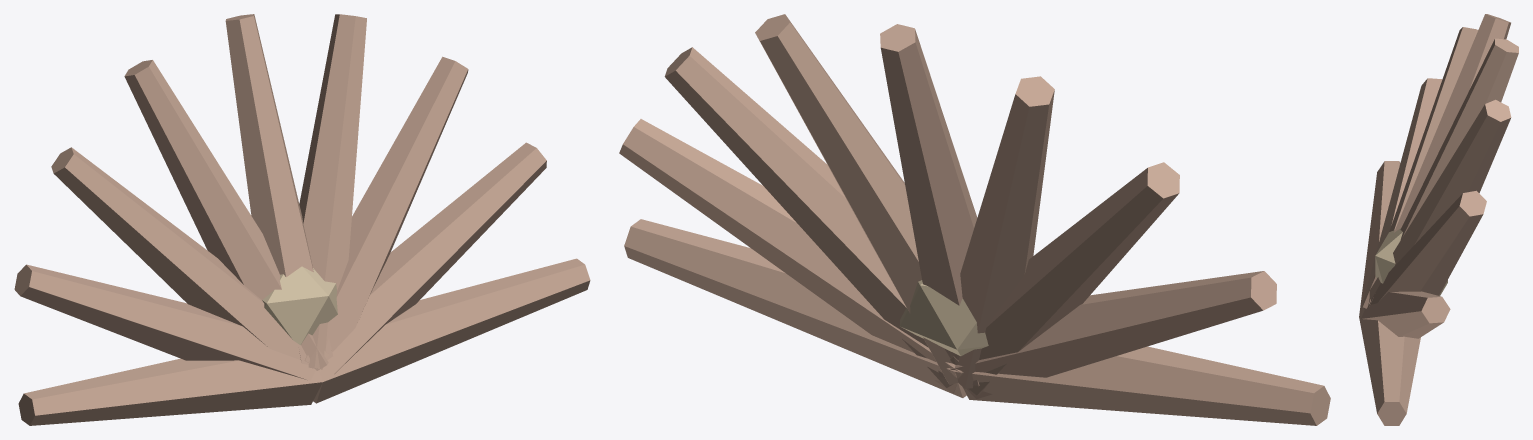
File: map-exclusive-v3__shore_07.glb
3 views of the same model, side by side, from view 1: azimuth 30°, elevation 25°; view 2: azimuth 150°, elevation 25°; view 3: azimuth 270°, elevation 25° (orthographic). The views are drawn at different scales.
Visible parts, largest first — view 1: shore_07; view 2: shore_07; view 3: shore_07.
Boxes of the visible parts, x1=… form: shore_07: x1=14, y1=14, x2=590, y2=425; shore_07: x1=619, y1=14, x2=1330, y2=425; shore_07: x1=1359, y1=14, x2=1518, y2=425.
Size of the model in its own units: 1.75 by 1.01 by 0.4864.
